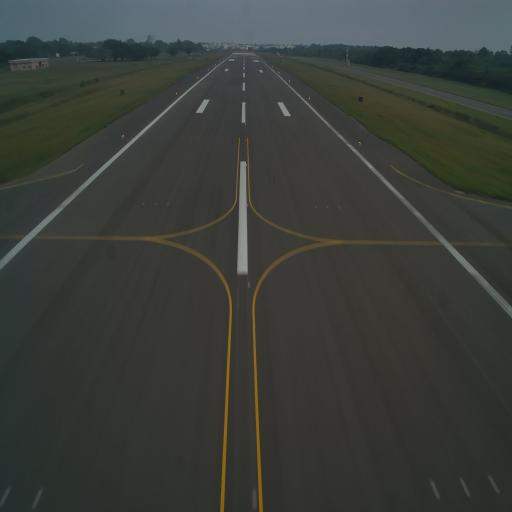off: (426, 470, 446, 504), (454, 470, 474, 502), (485, 466, 503, 501), (30, 480, 46, 512), (0, 482, 15, 512), (140, 198, 146, 208), (152, 198, 158, 208), (325, 201, 330, 212), (312, 202, 317, 212), (337, 203, 342, 211), (293, 138, 297, 147), (165, 200, 170, 207), (181, 136, 186, 142), (300, 140, 305, 146), (189, 136, 193, 143), (286, 138, 290, 145), (197, 137, 199, 143)
on: (248, 480, 262, 512), (246, 278, 252, 291), (244, 202, 250, 211), (120, 132, 126, 141), (358, 140, 362, 149), (245, 161, 248, 169), (245, 137, 248, 144)
